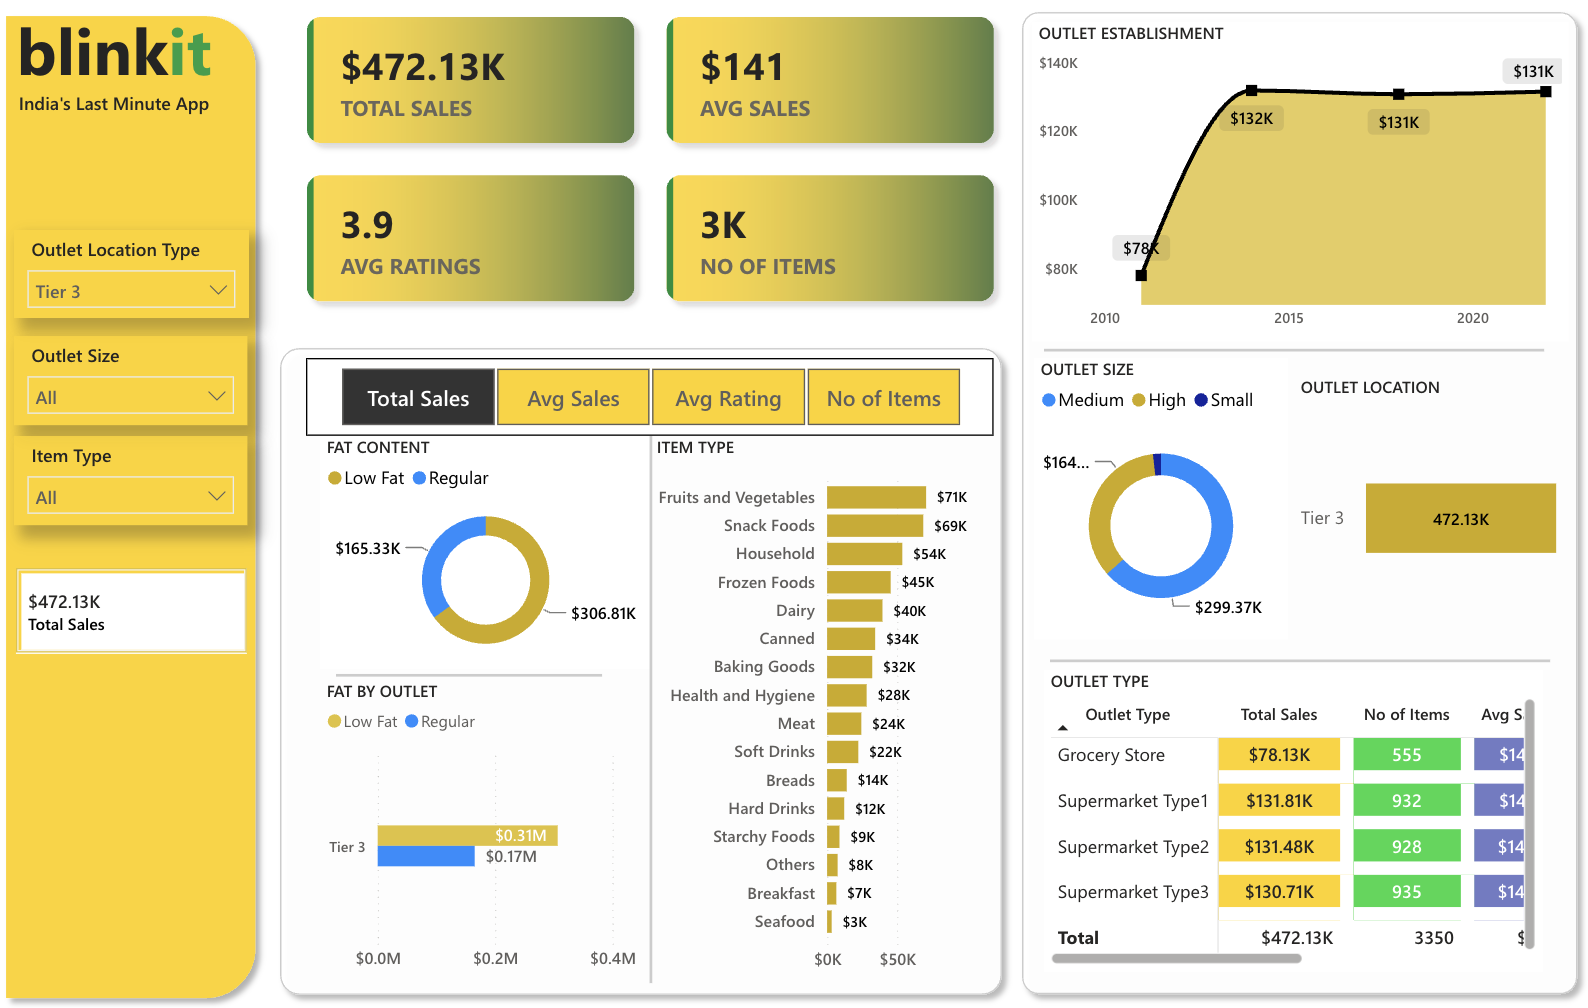

The dashboard page shown, as its layout file describes it:
{"tool":"powerbi","page":{"name":"Page 1","canvas":[1200,1400],"ordinal":0},"visuals":[{"type":"shape","box":[10.5,23.7,203.9,750],"z":0},{"type":"textbox","box":[10,1355,205,45],"z":1000},{"type":"textbox","box":[9.2,19.7,219.7,63.2],"z":2000},{"type":"cardVisual","fields":{"Data":["BlinkIT Grocery Data.Total Sales","BlinkIT Grocery Data.Avg Sales","BlinkIT Grocery Data.Avg Rating","BlinkIT Grocery Data.No of Items"]},"box":[215,5,570,270],"z":3000},{"type":"shape","box":[214.7,270.6,555.9,500],"z":4000},{"type":"donutChart","title":"FAT CONTENT","fields":{"Y":["BlinkIT Grocery Data.Total Sales"],"Category":["BlinkIT Grocery Data.Item Fat Content"]},"box":[253.1,345.7,246.9,174.1],"z":5000},{"type":"slicer","fields":{"Values":["Metrics.Metrics"]},"box":[243.2,287.7,512.3,58],"z":6000},{"type":"cardVisual","fields":{"Data":["BlinkIT Grocery Data.Total Sales"]},"box":[26.4,444.4,172.2,63.9],"z":7000},{"type":"clusteredBarChart","title":"FAT BY OUTLET","fields":{"Y":["BlinkIT Grocery Data.Total Sales"],"Category":["BlinkIT Grocery Data.Outlet Location Type"],"Series":["BlinkIT Grocery Data.Item Fat Content"]},"box":[253.1,528.4,246.9,225.9],"z":8000},{"type":"shape","box":[265.1,507.9,198.4,31.7],"z":9000},{"type":"shape","box":[488.9,346,22.2,407.9],"z":10000},{"type":"barChart","title":"ITEM TYPE","fields":{"Y":["BlinkIT Grocery Data.Total Sales"],"Category":["BlinkIT Grocery Data.Item Type"]},"box":[500,346,255.6,407.9],"z":11000},{"type":"shape","box":[768.2,20.5,431.8,750],"z":12000},{"type":"lineChart","title":"OUTLET ESTABLISHMENT","fields":{"Y":["BlinkIT Grocery Data.Total Sales"],"Category":["BlinkIT Grocery Data.Outlet Establishment Year"]},"box":[783.8,37.8,400,237.8],"z":13000},{"type":"donutChart","title":"OUTLET SIZE","fields":{"Y":["BlinkIT Grocery Data.Total Sales"],"Category":["BlinkIT Grocery Data.Outlet Size"]},"box":[785.1,287.8,189.2,209.5],"z":14000},{"type":"shape","box":[793.2,275.7,373,12.2],"z":15000},{"type":"funnel","title":"OUTLET LOCATION","fields":{"Y":["Sum(BlinkIT Grocery Data.Sales)"],"Category":["BlinkIT Grocery Data.Outlet Location Type"]},"box":[979.7,301.4,205.4,195.9],"z":16000},{"type":"shape","box":[797.3,497.3,373,31.1],"z":17000},{"type":"pivotTable","title":"OUTLET TYPE","fields":{"Values":["BlinkIT Grocery Data.Total Sales","BlinkIT Grocery Data.No of Items","BlinkIT Grocery Data.Avg Sales","BlinkIT Grocery Data.Avg Rating","Sum(BlinkIT Grocery Data.Item Visibility)"],"Rows":["BlinkIT Grocery Data.Outlet Type"]},"box":[793.2,520.3,371.6,224.3],"z":18000},{"type":"slicer","fields":{"Values":["BlinkIT Grocery Data.Outlet Location Type"]},"box":[25,191.7,175,65.6],"z":19000},{"type":"textbox","box":[23.7,82.9,155.3,28.9],"z":20000},{"type":"slicer","fields":{"Values":["BlinkIT Grocery Data.Outlet Size"]},"box":[26,270.8,174,66.7],"z":20001},{"type":"slicer","fields":{"Values":["BlinkIT Grocery Data.Item Type"]},"box":[26,345.8,174,66.7],"z":20002}]}

Visuals, with their boxes on the page's 1200x1400 design canvas (x1, y1, x2, y2). These are canvas units, not pixel positions in the 1588x1008 screenshot, which may show the page scaled, cropped or inside an application window:
shape: bbox=(10, 24, 214, 774)
textbox: bbox=(10, 1355, 215, 1400)
textbox: bbox=(9, 20, 229, 83)
cardVisual - BlinkIT Grocery Data.Total Sales x BlinkIT Grocery Data.Avg Sales: bbox=(215, 5, 785, 275)
shape: bbox=(215, 271, 771, 771)
"FAT CONTENT" donutChart: bbox=(253, 346, 500, 520)
slicer - Metrics.Metrics: bbox=(243, 288, 756, 346)
cardVisual - BlinkIT Grocery Data.Total Sales: bbox=(26, 444, 199, 508)
"FAT BY OUTLET" clusteredBarChart: bbox=(253, 528, 500, 754)
shape: bbox=(265, 508, 464, 540)
shape: bbox=(489, 346, 511, 754)
"ITEM TYPE" barChart: bbox=(500, 346, 756, 754)
shape: bbox=(768, 20, 1200, 770)
"OUTLET ESTABLISHMENT" lineChart: bbox=(784, 38, 1184, 276)
"OUTLET SIZE" donutChart: bbox=(785, 288, 974, 497)
shape: bbox=(793, 276, 1166, 288)
"OUTLET LOCATION" funnel: bbox=(980, 301, 1185, 497)
shape: bbox=(797, 497, 1170, 528)
"OUTLET TYPE" pivotTable: bbox=(793, 520, 1165, 745)
slicer - BlinkIT Grocery Data.Outlet Location Type: bbox=(25, 192, 200, 257)
textbox: bbox=(24, 83, 179, 112)
slicer - BlinkIT Grocery Data.Outlet Size: bbox=(26, 271, 200, 338)
slicer - BlinkIT Grocery Data.Item Type: bbox=(26, 346, 200, 412)
